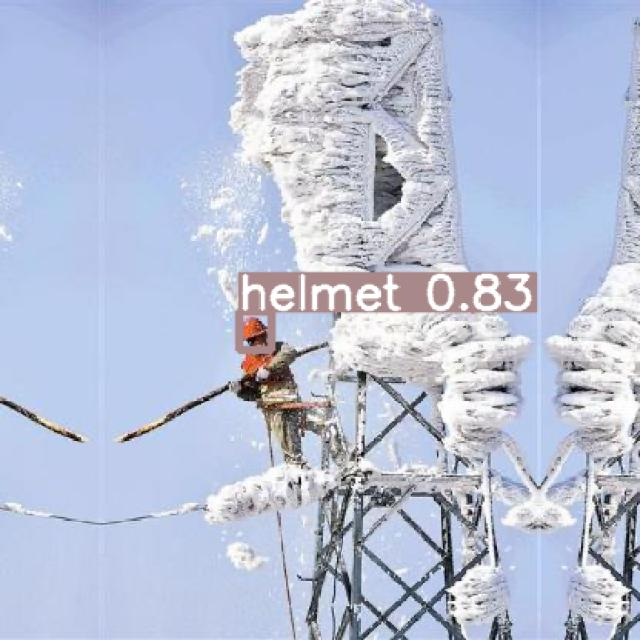helmet: (238, 311, 271, 349)
